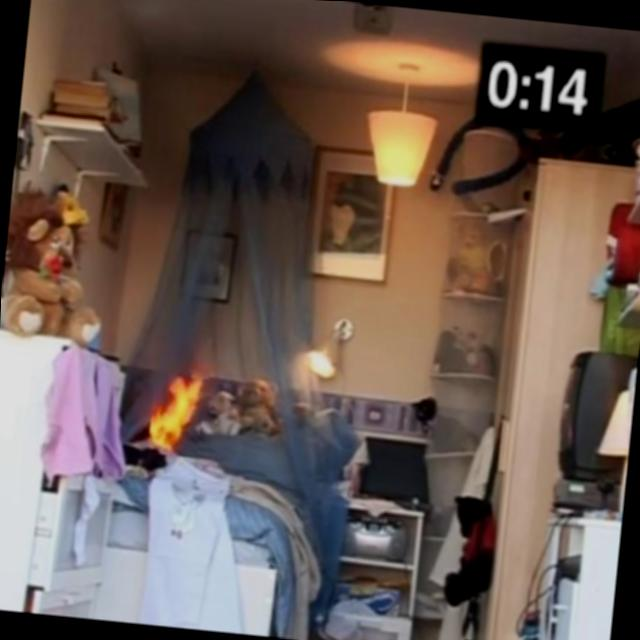fire: (122, 358, 240, 468)
